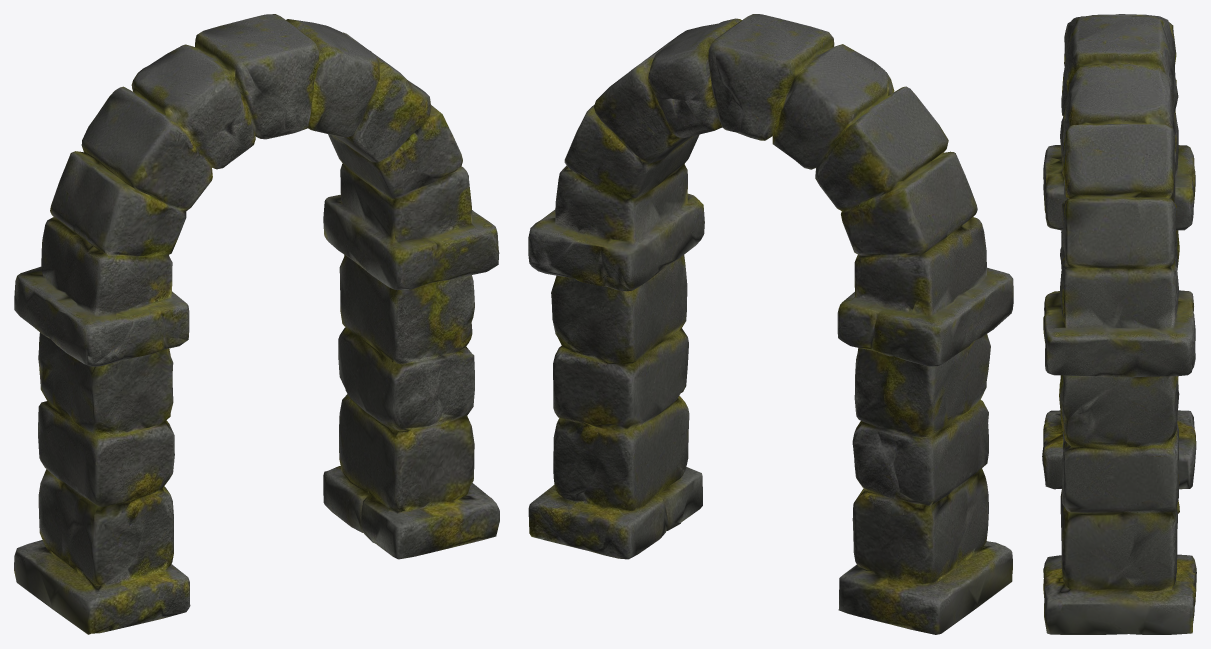
File: moss_arch.glb
3 renders of one model, left to right at view 1: azimuth 30°, elevation 25°; view 2: azimuth 150°, elevation 25°; view 3: azimuth 270°, elevation 25°, orthographic. The views are drawn at different scales.
Parts seen in each view (by area): view 1: moss_arch; view 2: moss_arch; view 3: moss_arch.
Part boxes in pixels (left/top/right/bottom): moss_arch: left=14, top=14, right=499, bottom=634; moss_arch: left=528, top=14, right=1013, bottom=634; moss_arch: left=1042, top=14, right=1196, bottom=634.
Bounding box in the file's own units: 1.57 × 1.9 × 0.5263.
1 material, 1 textured.
